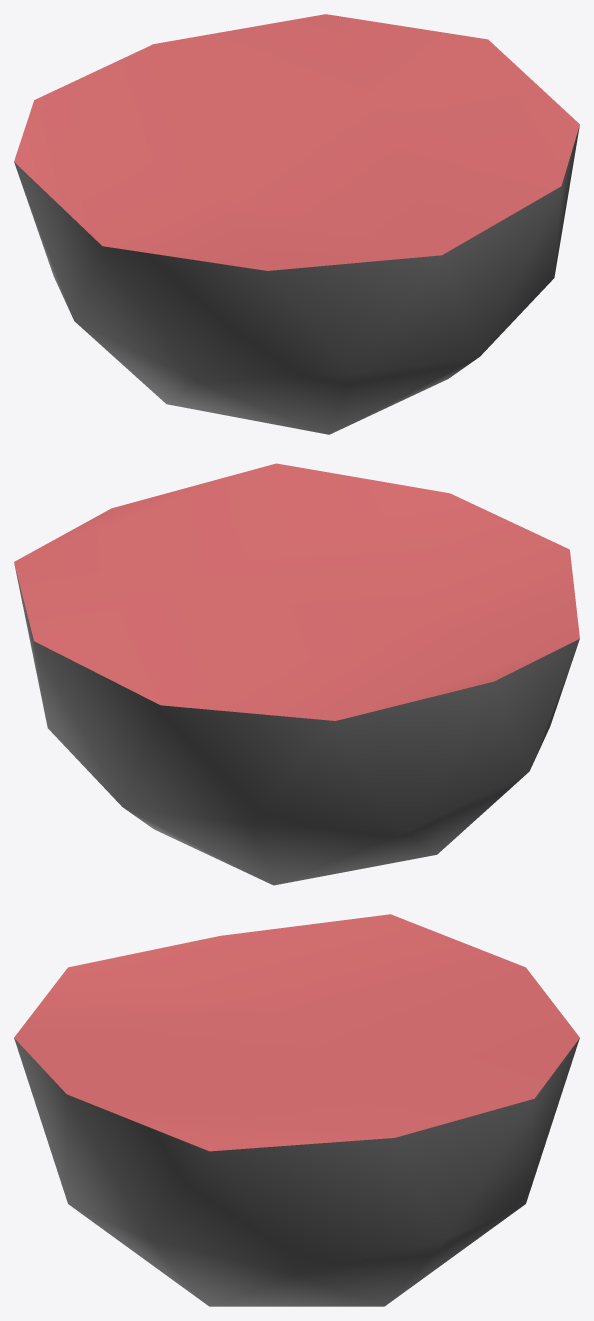
File: bulletHalf2.fbx
The picture shows the model from 3 angles, top to bottom: view 1: azimuth 30°, elevation 25°; view 2: azimuth 150°, elevation 25°; view 3: azimuth 270°, elevation 25°; orthographic projection. The views are drawn at different scales.
Parts seen in each view (by area): view 1: Icosphere.003; view 2: Icosphere.003; view 3: Icosphere.003.
Boxes of the visible parts, x1,y1,x2,y2 form: Icosphere.003: (14, 14, 579, 434); Icosphere.003: (14, 463, 579, 885); Icosphere.003: (14, 914, 579, 1306).
Bounding box in the file's own units: 191 × 106 × 200.
